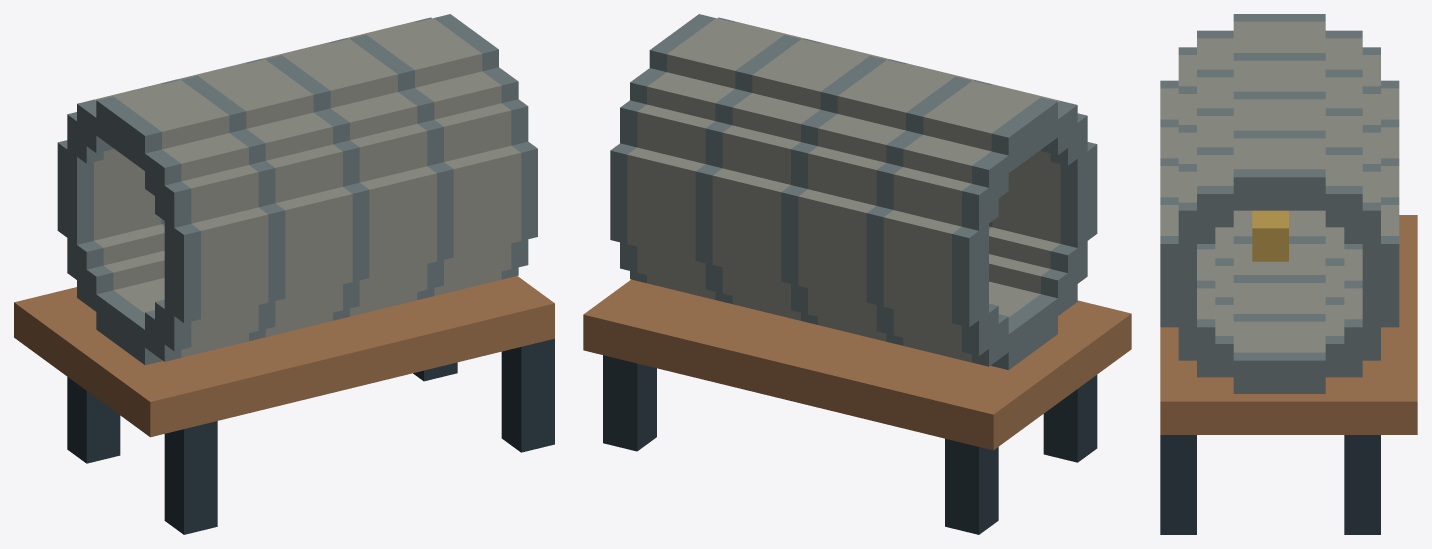
File: manufacturing-06.glb
3 renders of one model, left to right at view 1: azimuth 30°, elevation 25°; view 2: azimuth 150°, elevation 25°; view 3: azimuth 270°, elevation 25°, orthographic. The views are drawn at different scales.
Visible parts, largest first — view 1: Industrial lathe; view 2: Industrial lathe; view 3: Industrial lathe.
Part boxes in pixels (<box>): Industrial lathe: <box>14,14,554,534</box>; Industrial lathe: <box>583,14,1131,534</box>; Industrial lathe: <box>1160,14,1417,534</box>.
Size of the model in its own units: 1.92 by 1.68 by 1.12.
